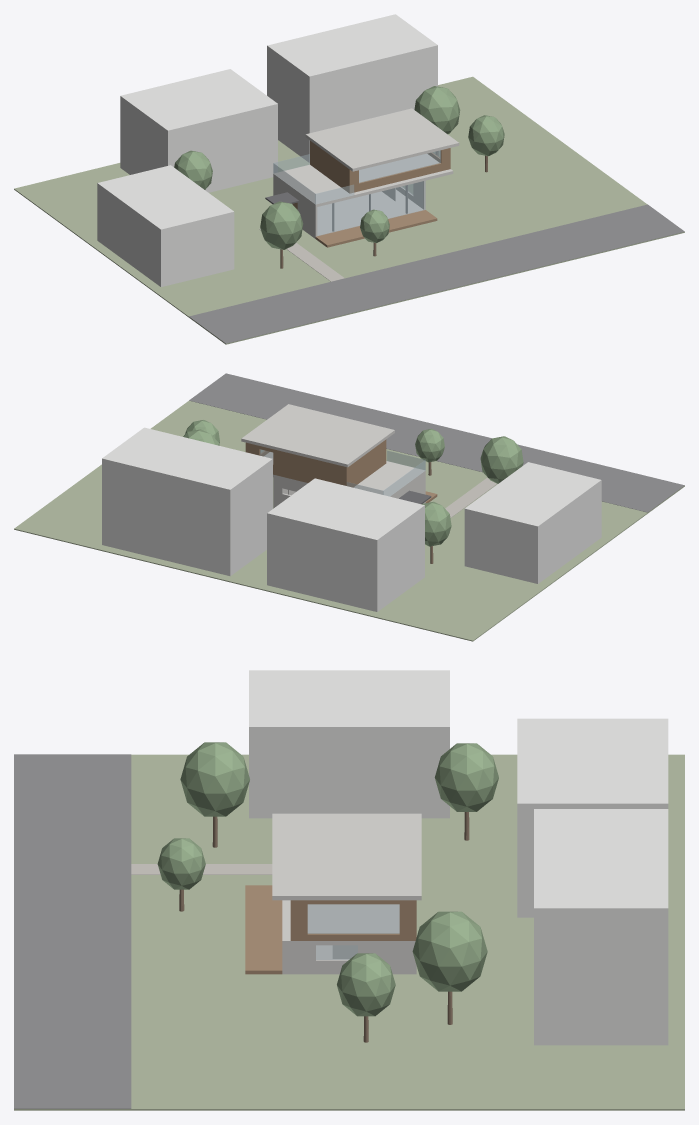
3 renders of one model, top to bottom at view 1: azimuth 30°, elevation 25°; view 2: azimuth 150°, elevation 25°; view 3: azimuth 270°, elevation 25°, orthographic. The views are drawn at different scales.
Visible parts, largest first — view 1: LAND_Site, LAND_Road, CTX_North02, CTX_North01, CTX_West01, ROOF_Main, SLAB_2F, WIN_1F_S, SLAB_1F, TREE_01, TREE_03, RAIL_2F_Terrace (+9 smaller); view 2: LAND_Site, CTX_North02, CTX_North01, CTX_West01, LAND_Road, ROOF_Main, WALL_2F_N, SLAB_2F, TREE_01, RAIL_2F_Terrace, TREE_04, WALL_2F_W (+3 smaller); view 3: LAND_Site, LAND_Road, CTX_North02, CTX_West01, CTX_North01, ROOF_Main, TREE_03, TREE_01, SLAB_2F, TREE_04, LAND_Deck, TREE_02 (+6 smaller).
Boxes of the visible parts, left/top/right/bottom form: LAND_Site: left=14, top=76, right=684, bottom=344; LAND_Road: left=189, top=204, right=684, bottom=343; CTX_North02: left=267, top=14, right=437, bottom=162; CTX_North01: left=120, top=69, right=277, bottom=192; CTX_West01: left=97, top=165, right=234, bottom=286; ROOF_Main: left=305, top=108, right=459, bottom=171; SLAB_2F: left=273, top=154, right=453, bottom=207; WIN_1F_S: left=317, top=181, right=425, bottom=235; SLAB_1F: left=302, top=190, right=425, bottom=238; TREE_01: left=260, top=201, right=303, bottom=249; TREE_03: left=414, top=86, right=460, bottom=134; RAIL_2F_Terrace: left=273, top=154, right=354, bottom=204; LAND_Site: left=14, top=400, right=684, bottom=641; CTX_North02: left=102, top=427, right=272, bottom=576; CTX_North01: left=267, top=478, right=424, bottom=611; CTX_West01: left=464, top=462, right=601, bottom=583; LAND_Road: left=189, top=373, right=684, bottom=512; ROOF_Main: left=241, top=404, right=394, bottom=467; WALL_2F_N: left=245, top=442, right=347, bottom=485; SLAB_2F: left=264, top=452, right=425, bottom=497; TREE_01: left=480, top=436, right=523, bottom=483; RAIL_2F_Terrace: left=346, top=450, right=425, bottom=496; TREE_04: left=422, top=501, right=451, bottom=546; WALL_2F_W: left=347, top=440, right=385, bottom=487; LAND_Site: left=14, top=754, right=684, bottom=1110; LAND_Road: left=14, top=754, right=131, bottom=1108; CTX_North02: left=534, top=809, right=668, bottom=1045; CTX_West01: left=249, top=670, right=449, bottom=818; CTX_North01: left=517, top=718, right=668, bottom=917; ROOF_Main: left=272, top=813, right=421, bottom=900; TREE_03: left=412, top=911, right=487, bottom=991; TREE_01: left=180, top=742, right=249, bottom=816; SLAB_2F: left=282, top=900, right=415, bottom=945; TREE_04: left=434, top=743, right=498, bottom=811; LAND_Deck: left=245, top=885, right=282, bottom=974; TREE_02: left=337, top=953, right=395, bottom=1016.
Size of the model in its own units: 50 by 9.1 by 40.
